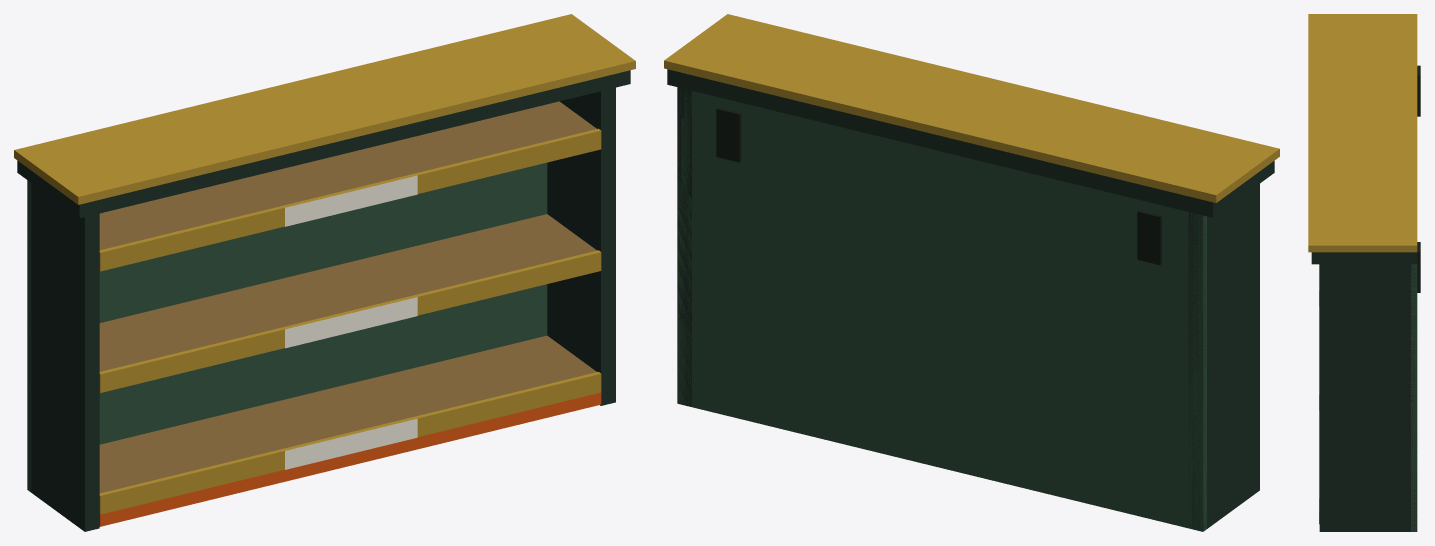
Rendered from accessory-shelf.glb.
3 views of the same model, side by side, from view 1: azimuth 30°, elevation 25°; view 2: azimuth 150°, elevation 25°; view 3: azimuth 270°, elevation 25° (orthographic). The views are drawn at different scales.
Visible parts, largest first — view 1: back_plate, top_cap_lip, deck_1, deck_2, upright_left, deck_3, upright_right, top_cap, deck_fascia_2, deck_fascia_3, deck_fascia_1, accent_band (+3 smaller); view 2: back_plate, top_cap_lip, upright_left, top_cap, upright_right, mount_bracket_right, mount_bracket_left; view 3: top_cap_lip, upright_right, back_plate, top_cap, mount_bracket_left, mount_bracket_right.
Boxes of the visible parts, x1,y1,x2,y2 form: back_plate: (27,162,547,492); top_cap_lip: (14,14,635,204); deck_1: (99,335,596,493); deck_2: (99,214,596,371); upright_left: (27,183,99,531); deck_3: (99,101,596,250); upright_right: (547,87,615,405); top_cap: (17,70,630,218); deck_fascia_2: (99,250,601,392); deck_fascia_3: (99,128,601,271); deck_fascia_1: (99,372,601,514); accent_band: (99,392,601,526); back_plate: (677,88,1206,531); top_cap_lip: (664,14,1279,202); upright_left: (1188,184,1259,531); top_cap: (667,69,1274,217); upright_right: (677,87,691,406); mount_bracket_right: (716,107,741,162); mount_bracket_left: (1137,210,1161,264); top_cap_lip: (1308,14,1417,252); upright_right: (1319,264,1417,531); back_plate: (1411,264,1417,531); top_cap: (1311,252,1417,264); mount_bracket_left: (1417,65,1420,116); mount_bracket_right: (1417,242,1420,292).
Size of the model in its own units: 1.68 by 0.988 by 0.345.
